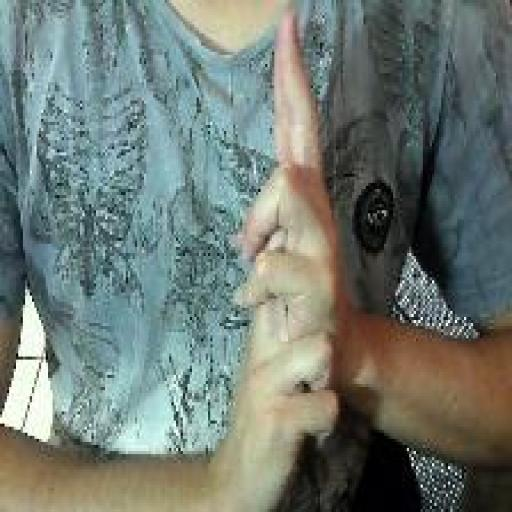Hitsuji -ram-: (230, 4, 344, 510)
